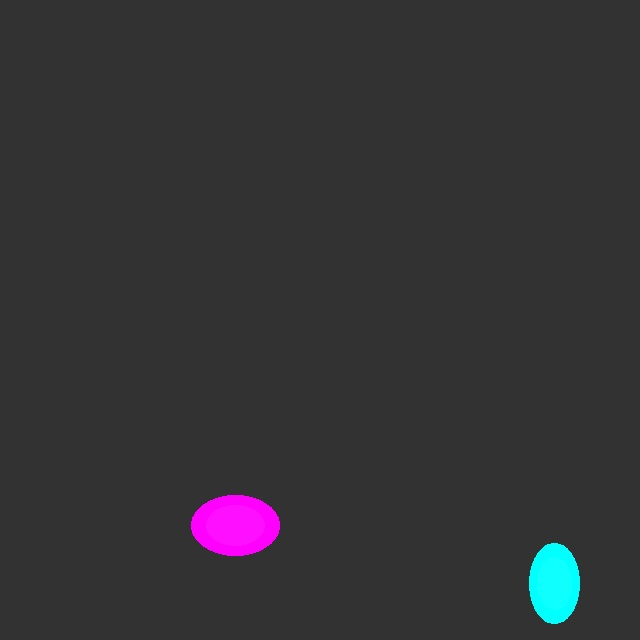fish: (191, 494, 280, 555), (529, 543, 579, 623)
